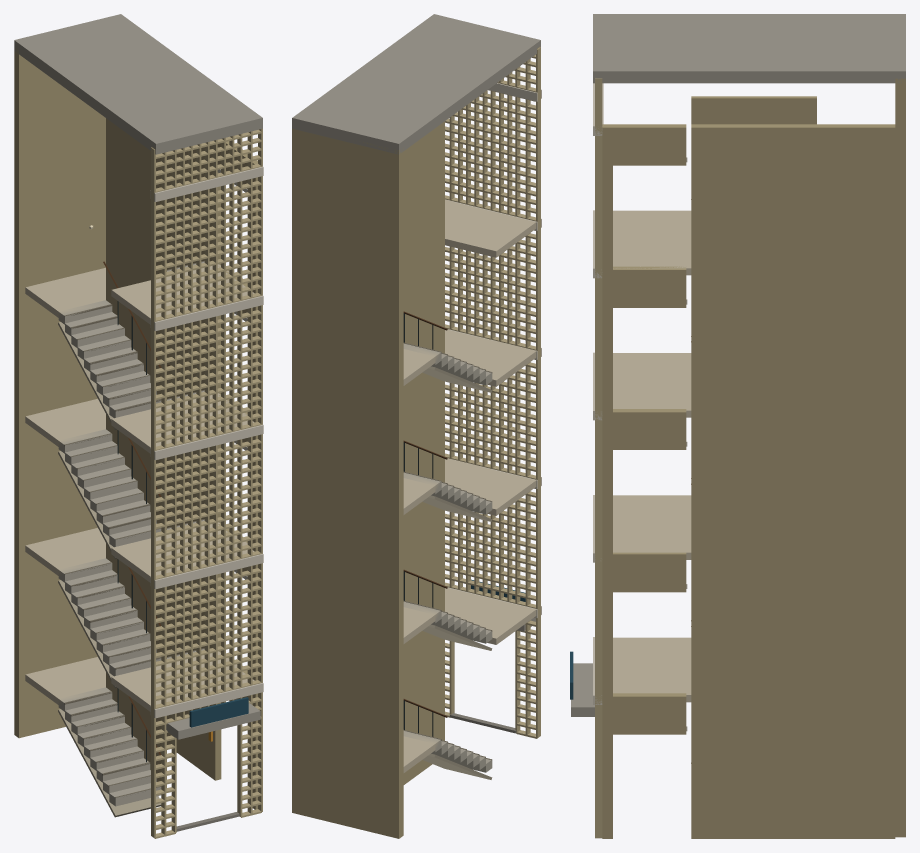
File: hoa_sua_thap.glb
3 renders of one model, left to right at view 1: azimuth 30°, elevation 25°; view 2: azimuth 150°, elevation 25°; view 3: azimuth 270°, elevation 25°, orthographic. The views are drawn at different scales.
Visible parts, largest first — view 1: hoa_sua_thap; view 2: hoa_sua_thap; view 3: hoa_sua_thap.
Part boxes in pixels (left/top/right/bottom): hoa_sua_thap: left=14, top=14, right=263, bottom=838; hoa_sua_thap: left=292, top=14, right=541, bottom=838; hoa_sua_thap: left=570, top=14, right=905, bottom=838.
Bounding box in the file's own units: 2.7 × 16.45 × 6.42.
